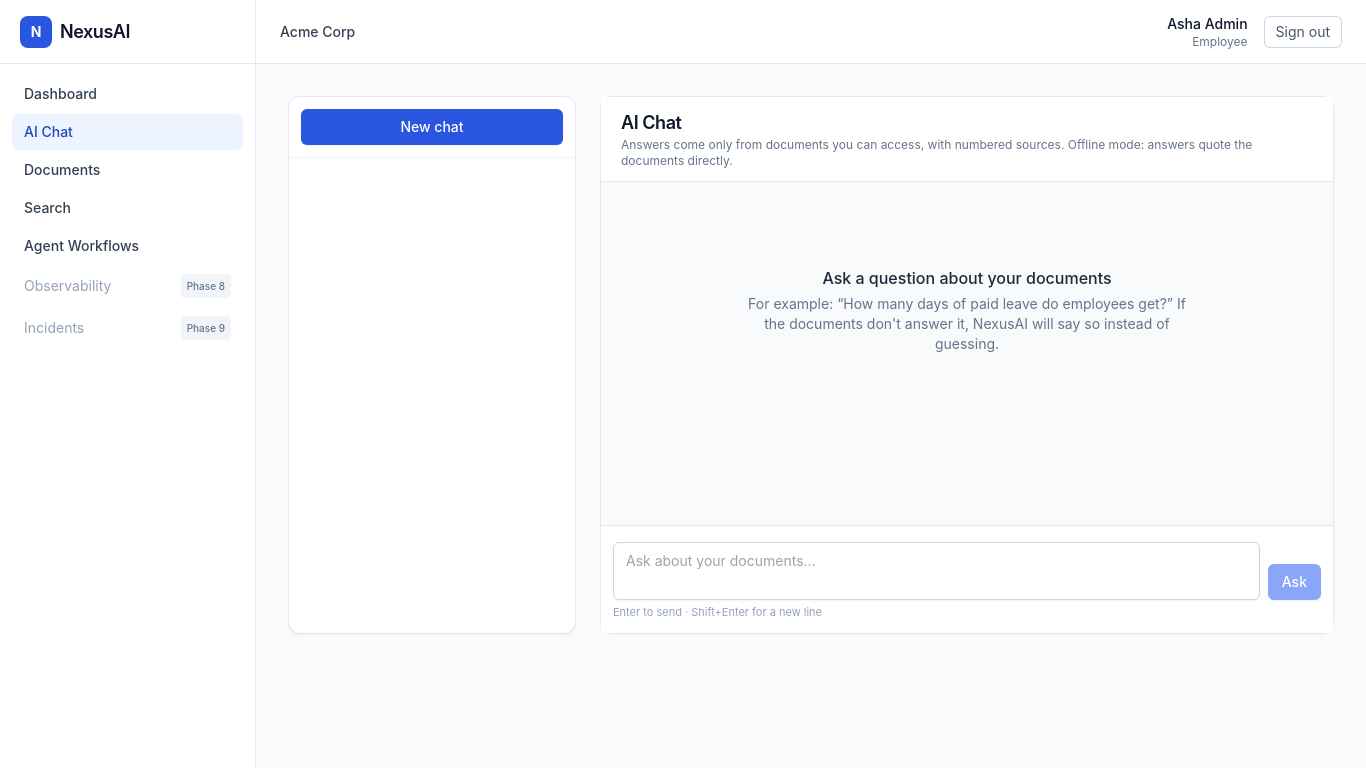
Test case: AI Chat › shows the API's message when the AI provider is unavailable
Type "hello" into the text box named "Your question".
click(936, 571); type("hello")  # box [613,542,1260,600]
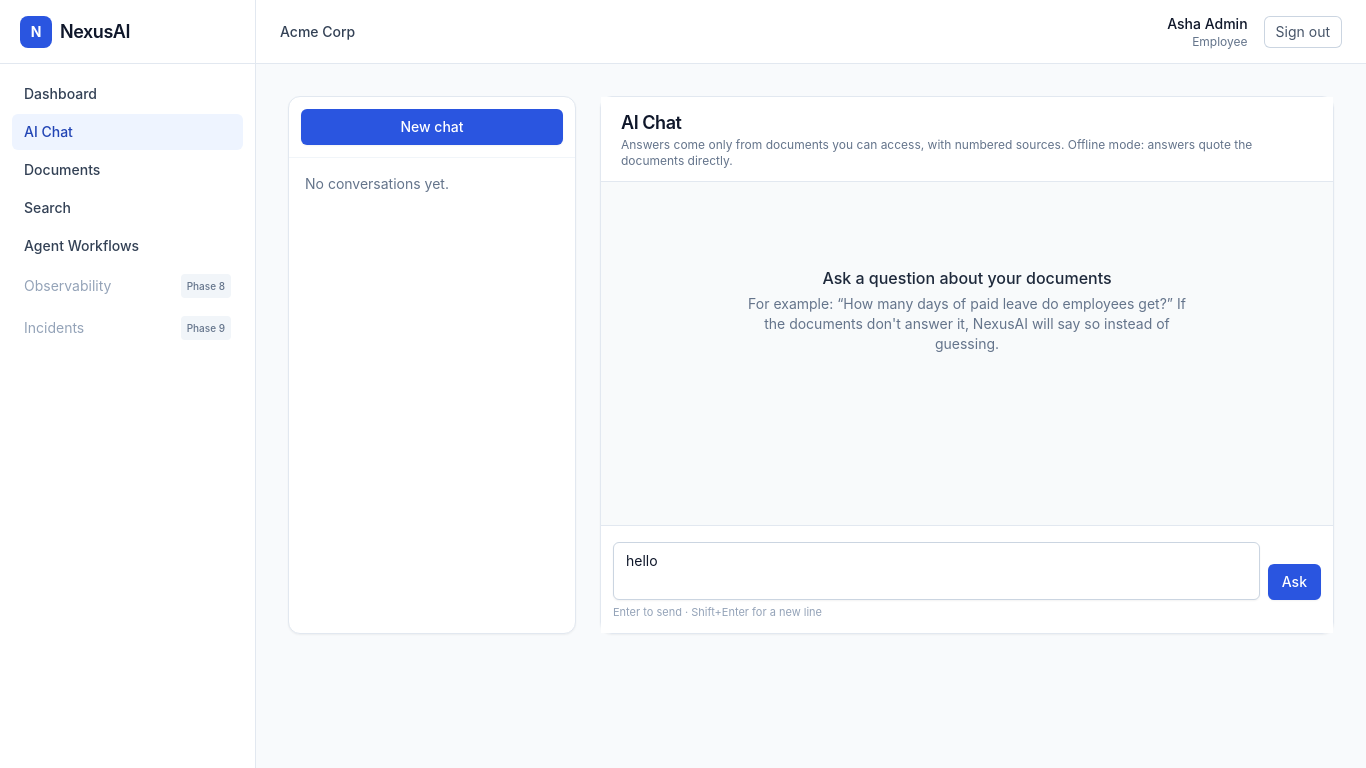
Click the button "Ask".
click(1294, 582)  # box [1268,564,1321,600]
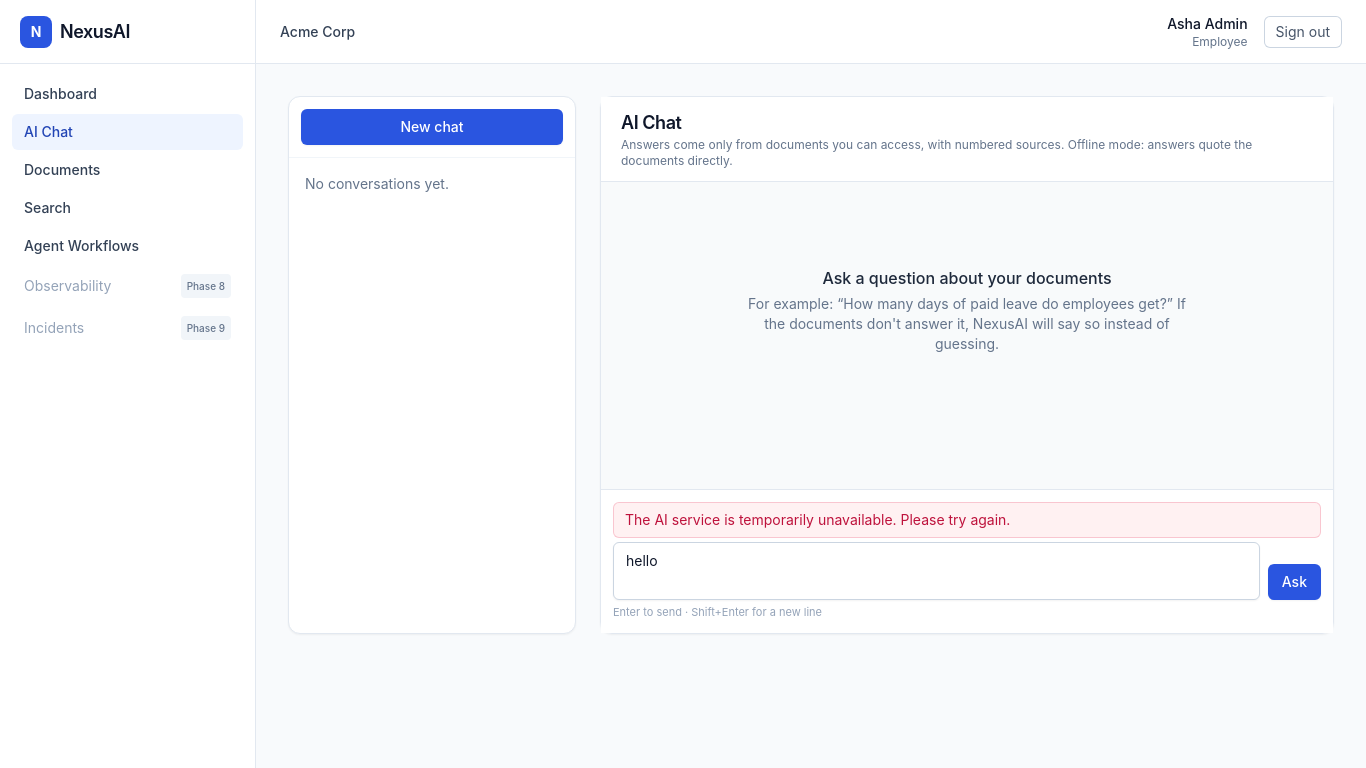
expect the message shows "temporarily unavailable": met, box [625,511,1010,528]
